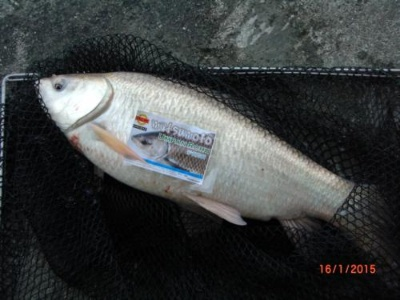rohu: (23, 70, 399, 278)
